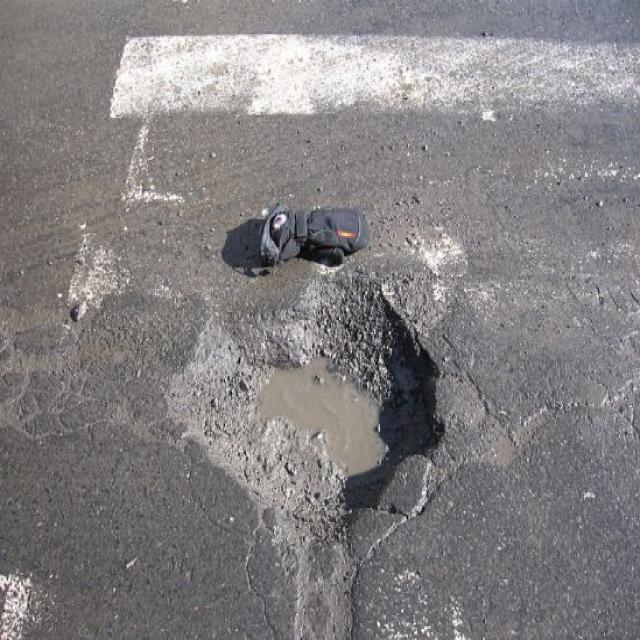Pothole: (167, 261, 453, 547)
